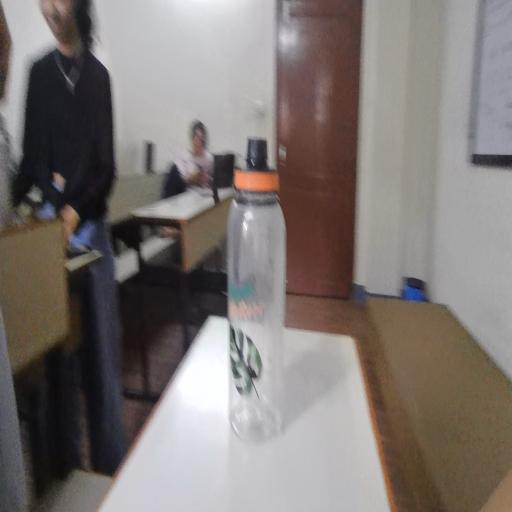Bottle: (225, 165, 303, 456)
